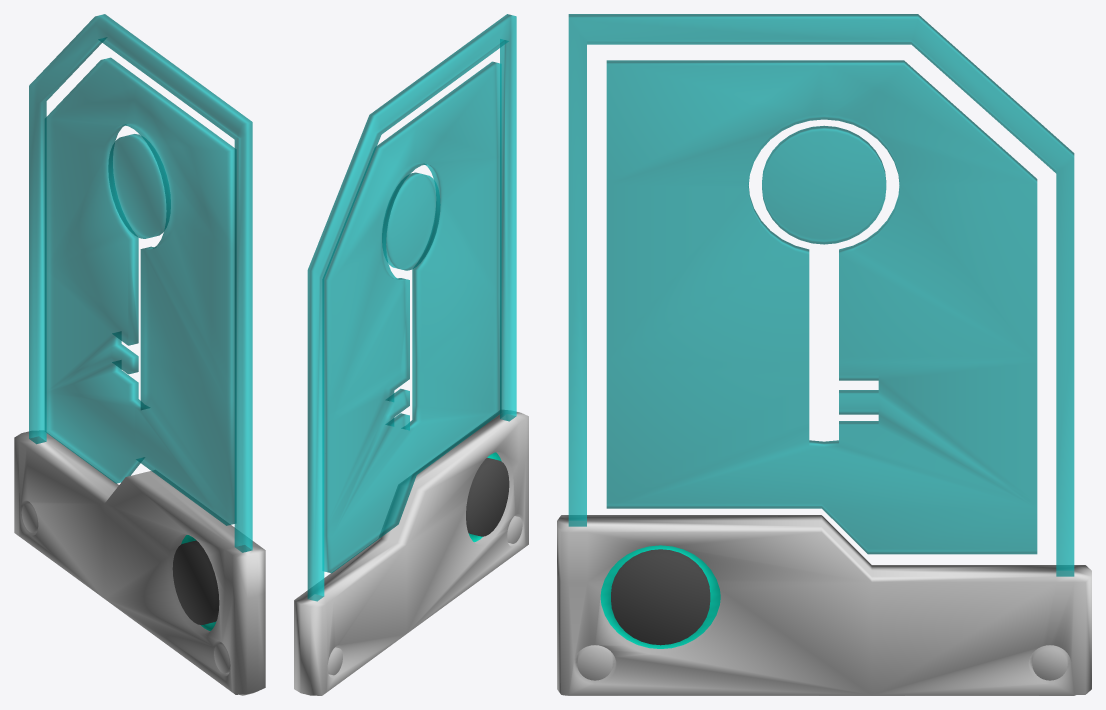
The model's file is CardKey.obj.
The picture shows the model from 3 angles, left to right: view 1: azimuth 30°, elevation 25°; view 2: azimuth 150°, elevation 25°; view 3: azimuth 270°, elevation 25°; orthographic projection. The views are drawn at different scales.
Visible parts, largest first — view 1: Plane_Hologram_0, Plane_Metal_0, Plane_Button_0; view 2: Plane_Hologram_0, Plane_Metal_0, Plane_Button_0; view 3: Plane_Hologram_0, Plane_Metal_0, Plane_Button_0, Plane_Light_0.
Boxes of the visible parts, <box> form: Plane_Hologram_0: <box>29,14,252,552</box>; Plane_Metal_0: <box>14,430,265,695</box>; Plane_Button_0: <box>172,540,219,625</box>; Plane_Hologram_0: <box>307,14,516,601</box>; Plane_Metal_0: <box>294,410,528,695</box>; Plane_Button_0: <box>466,458,509,536</box>; Plane_Hologram_0: <box>568,14,1074,576</box>; Plane_Metal_0: <box>557,515,1091,695</box>; Plane_Button_0: <box>611,549,710,645</box>; Plane_Light_0: <box>600,545,720,648</box>.
Size of the model in its own units: 22.3 by 405 by 291.
